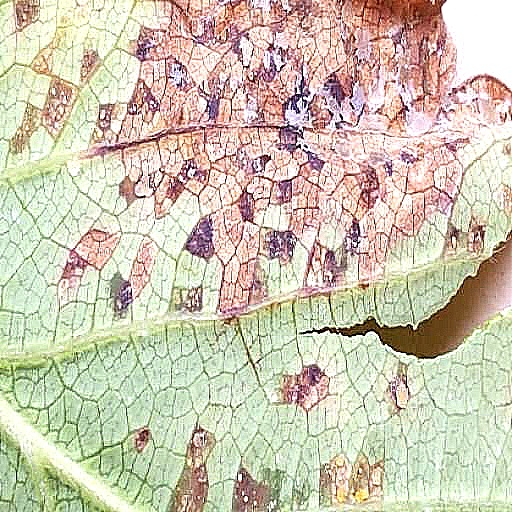Angular Leafspot: (0, 0, 511, 511)
